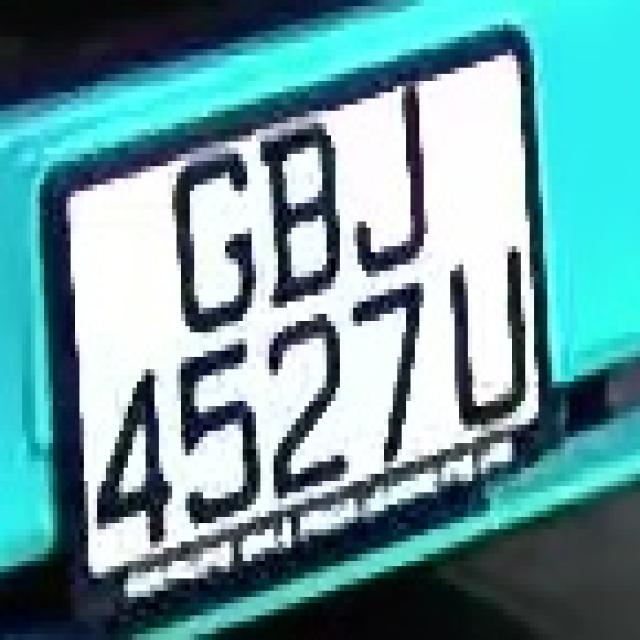2: (256, 308, 358, 504)
4: (84, 376, 190, 566)
5: (172, 351, 256, 535)
7: (344, 252, 437, 468)
B: (256, 105, 349, 308)
G: (164, 123, 260, 357)
J: (344, 68, 446, 277)
U: (446, 246, 534, 480)
